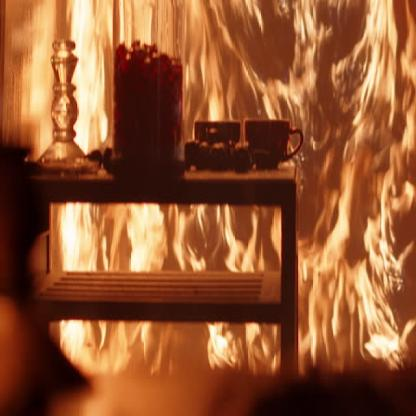fire: (52, 0, 412, 370)
